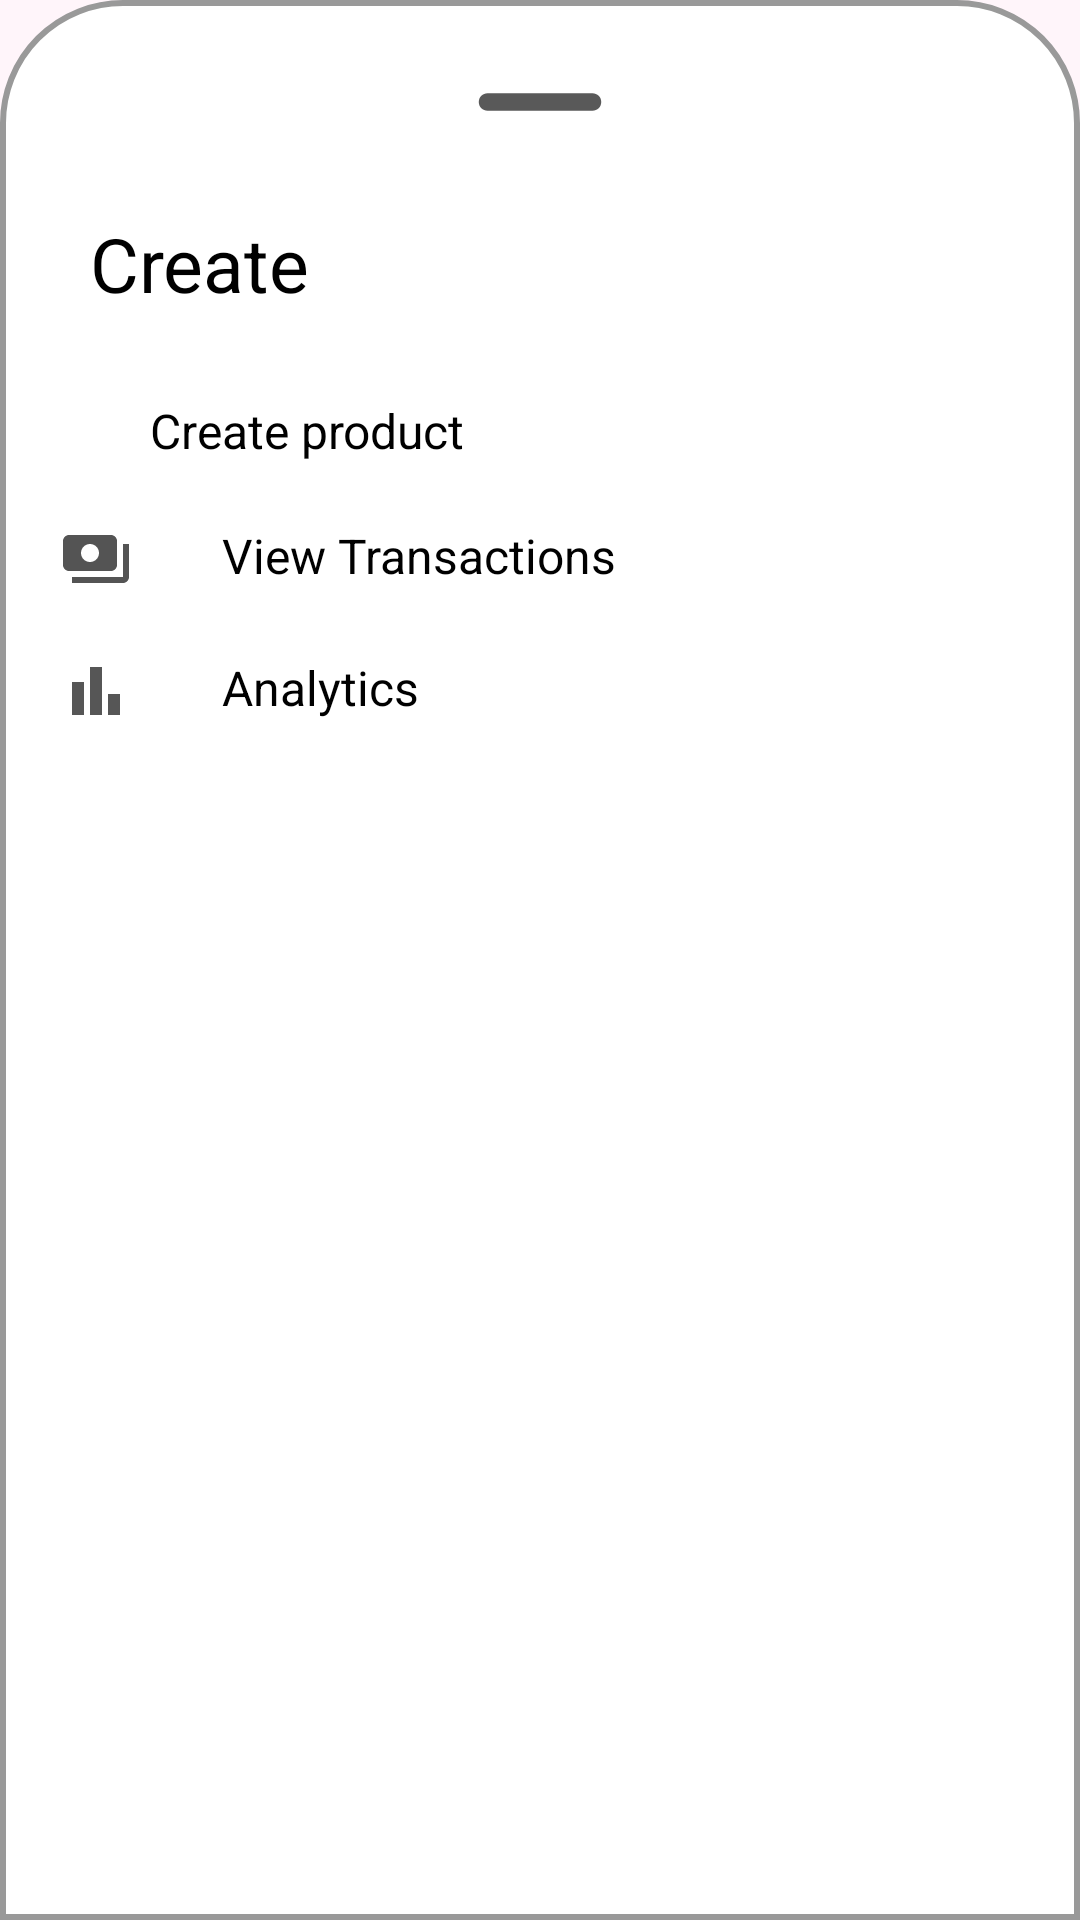

Icons on this 1080px×1920px Android screen, each with the point to tap as [x,y]:
bar chart: [96,691]
payments: [96,559]
